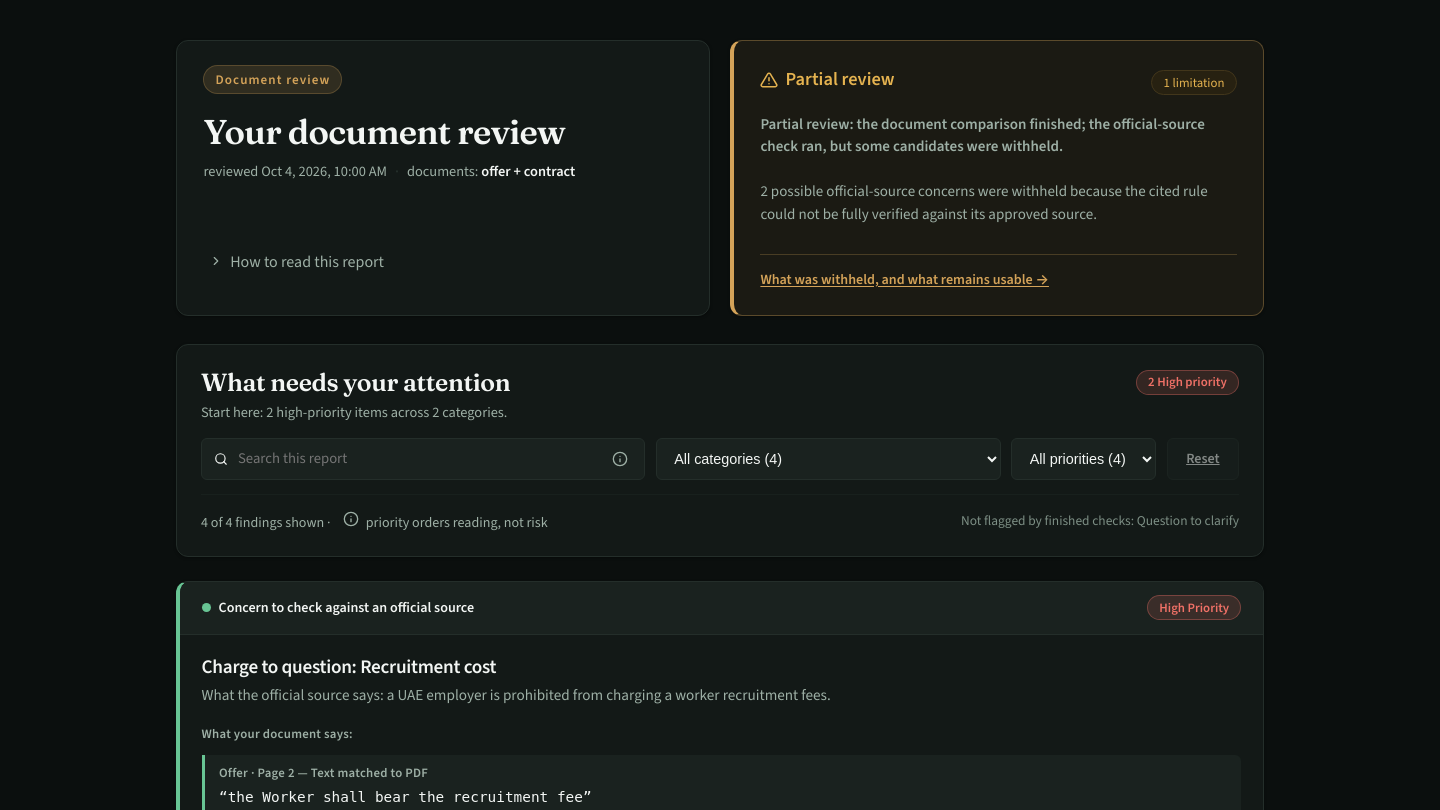
search, filters, reset (plan §8.12) › category filter narrows with a live count; reset restores
Expected: the text "4 of 4 findings shown · priority orders reading, not risk" is shown, [201, 506, 548, 534]
Select "Concern to check against an official source (1)" in the 1st dropdown named "Filter by category" at (828, 459), box [656, 438, 1001, 480]
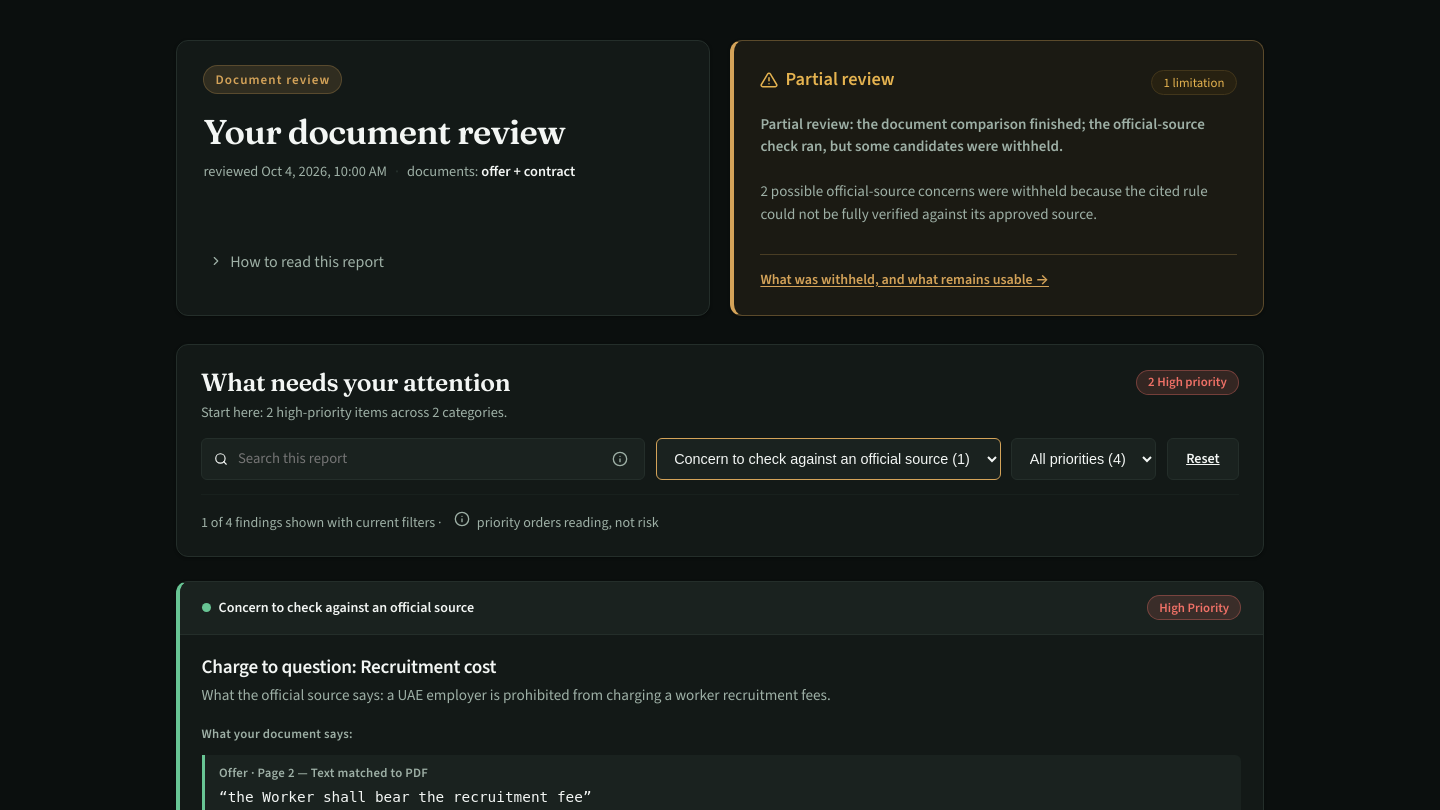
Expected: the heading "Charge to question: Recruitment cost" is shown, [202, 654, 496, 679]
Expected: the text "1 of 4 findings shown with current filters · priority orders reading, not risk" is shown, [201, 506, 659, 534]
Click the button "Reset".
click(1203, 459)  # box [1167, 438, 1239, 480]
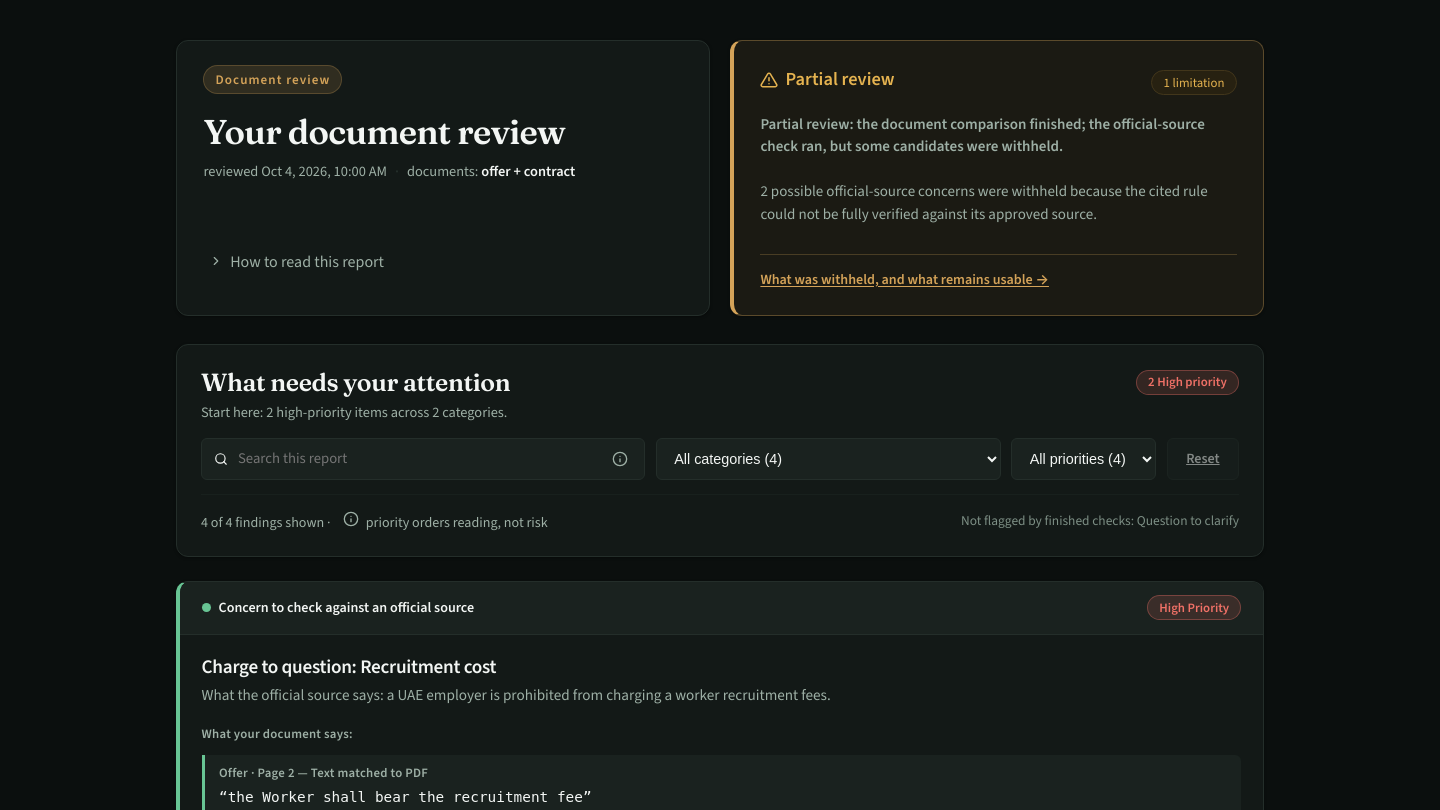
Expected: the text "4 of 4 findings shown · priority orders reading, not risk" is shown, [201, 506, 548, 534]
